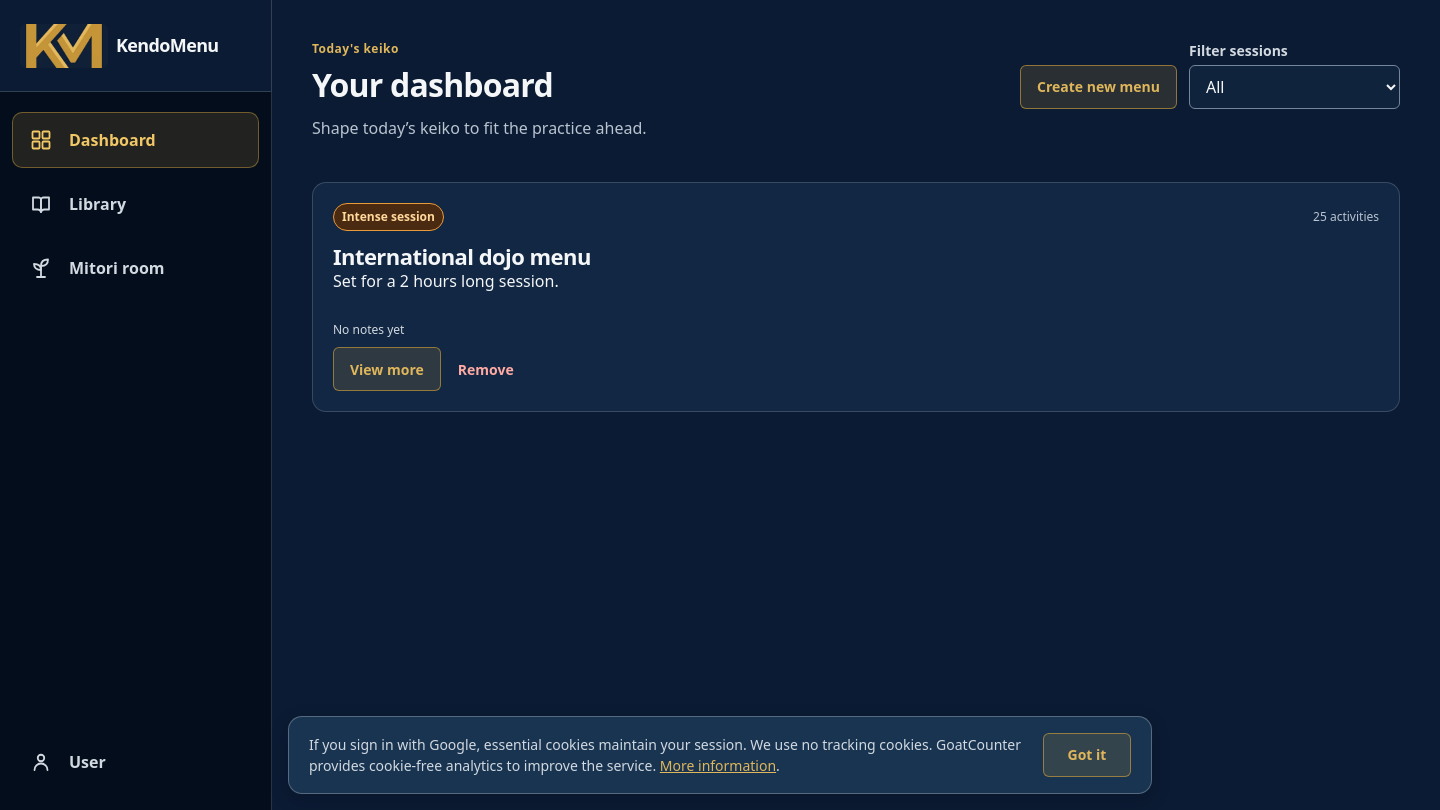
Test case: KendoMenu application flows › shows a useful result-empty state when a filter has no matches
Step 1. Select "Custom" in the dropdown labelled "Filter sessions" → point(1294, 87), box [1189,65,1400,109]
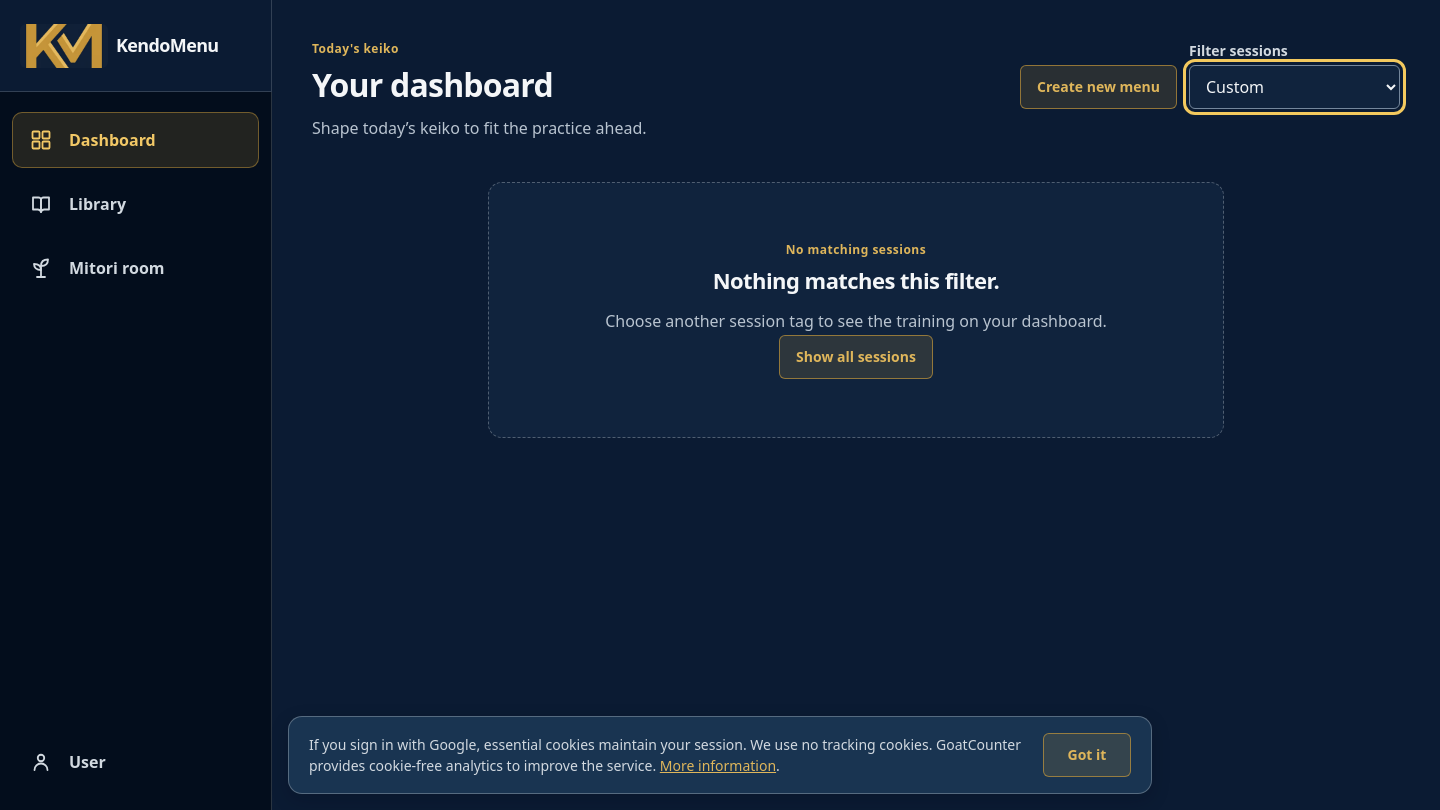
Expected: the heading "Nothing matches this filter." is shown, [713,267,999,293]
Expected: the button "Show all sessions" is shown
Step 2. Click the button "Show all sessions" → point(856, 357), box [779,335,933,379]
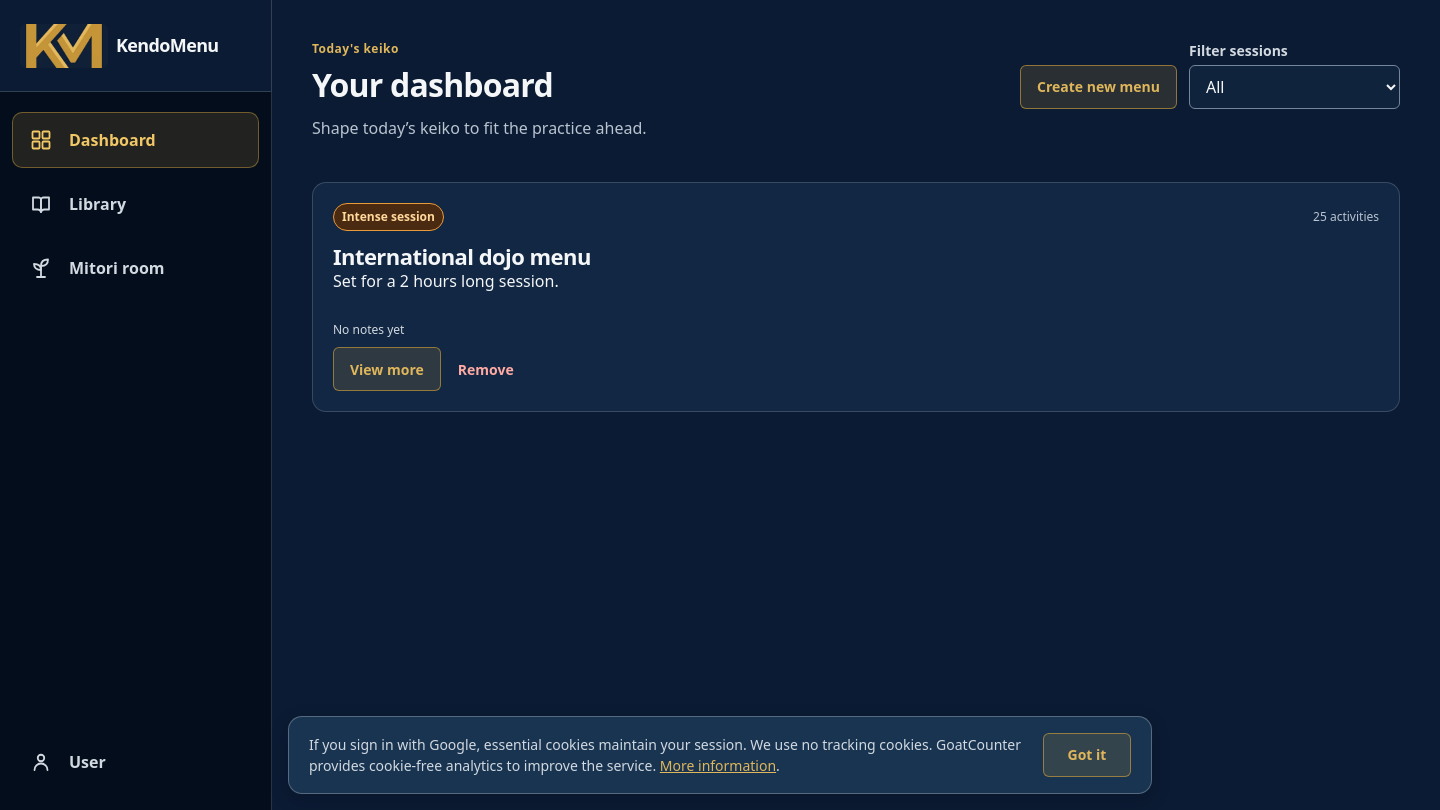
Expected: the heading "International dojo menu" is shown, [333,243,591,269]
